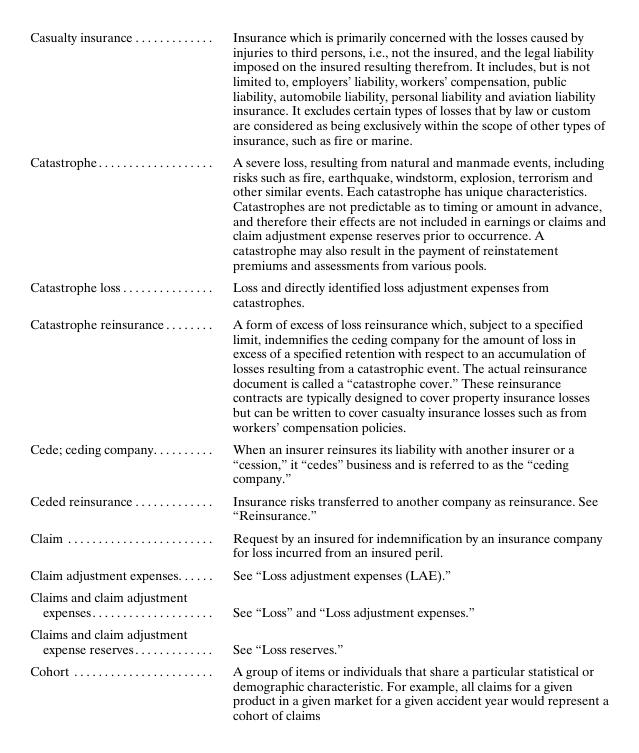table: (29, 28, 607, 722)
table column: (209, 28, 607, 722), (29, 28, 209, 722)
table row: (29, 150, 607, 275), (29, 312, 607, 437), (29, 28, 607, 150), (29, 659, 607, 722), (29, 437, 607, 489), (29, 275, 607, 312), (29, 489, 607, 526), (29, 526, 607, 563), (29, 585, 607, 622), (29, 622, 607, 659), (29, 563, 607, 585)
